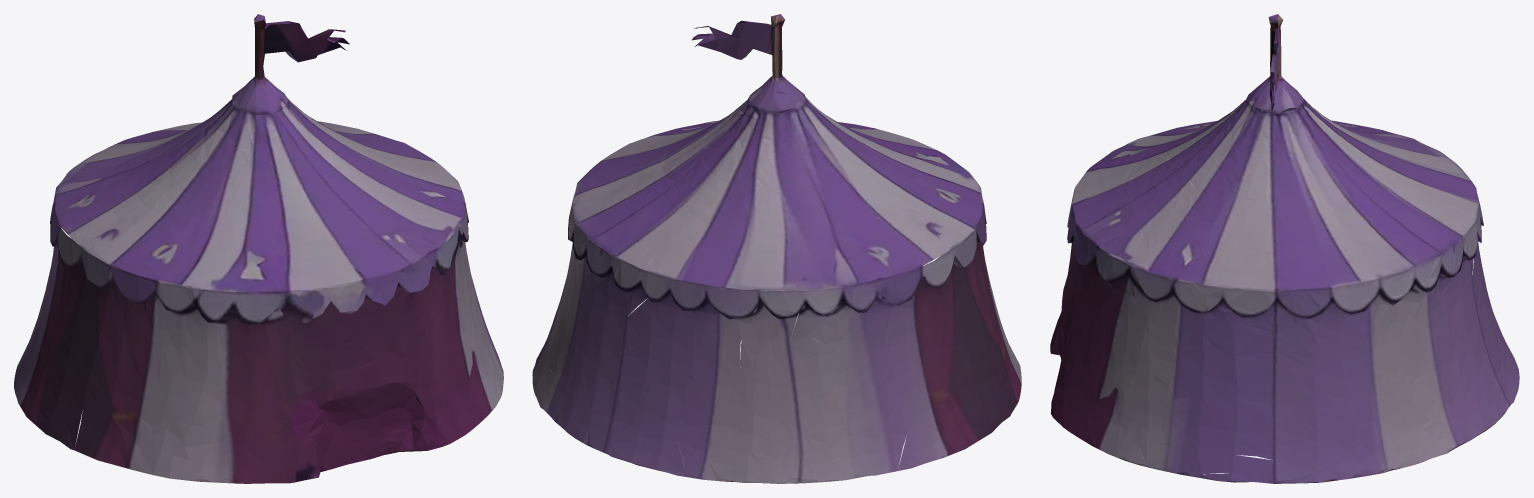
Rendered from wonders.glb.
3 renders of one model, left to right at view 1: azimuth 30°, elevation 25°; view 2: azimuth 150°, elevation 25°; view 3: azimuth 270°, elevation 25°, orthographic.
Parts seen in each view (by area): view 1: geometry_0; view 2: geometry_0; view 3: geometry_0.
Boxes of the visible parts, x1,y1,x2,y2 form: geometry_0: [14, 14, 503, 483]; geometry_0: [532, 14, 1021, 483]; geometry_0: [1050, 14, 1519, 483].
Bounding box in the file's own units: 4.8 × 3.94 × 4.57.
1 material, 1 textured.
